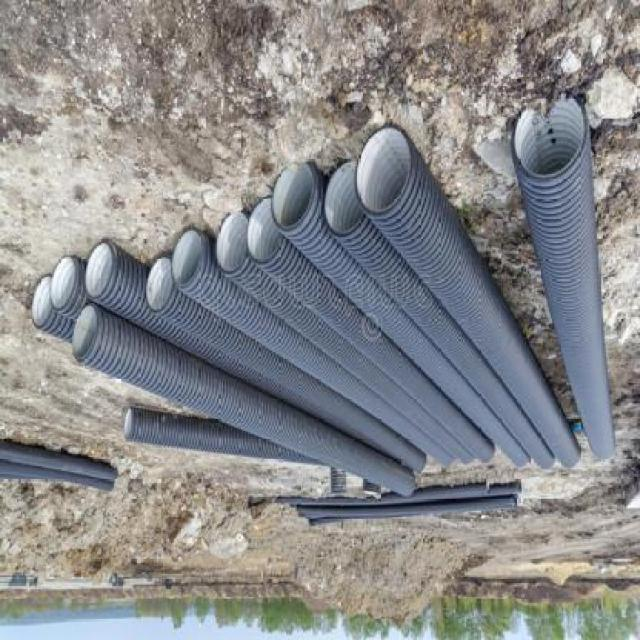pipe: (511, 94, 587, 180), (354, 127, 412, 216), (271, 162, 317, 233), (323, 162, 363, 236), (246, 197, 282, 265), (215, 212, 248, 274), (171, 229, 204, 289), (85, 240, 116, 300), (145, 256, 174, 313), (73, 305, 99, 362), (51, 256, 77, 311), (33, 275, 53, 328), (119, 400, 140, 443)
